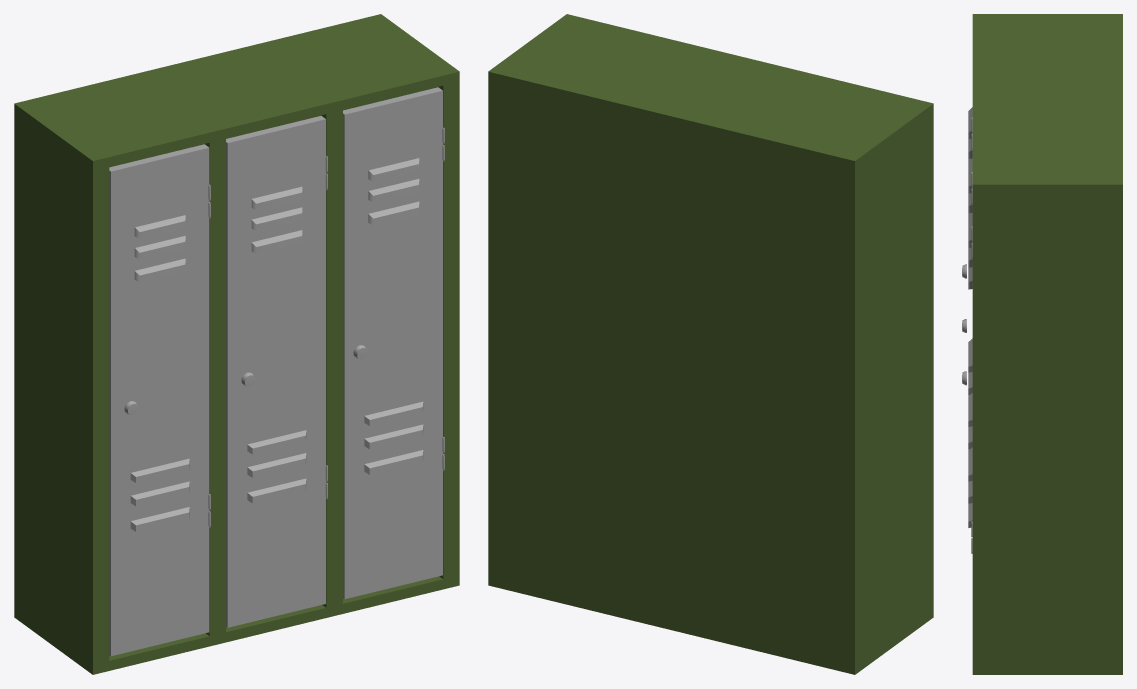
The model's file is Locker big.fbx.
3 renders of one model, left to right at view 1: azimuth 30°, elevation 25°; view 2: azimuth 150°, elevation 25°; view 3: azimuth 270°, elevation 25°, orthographic. The views are drawn at different scales.
Parts seen in each view (by area): view 1: polySurface23; view 2: polySurface23; view 3: polySurface23.
Part boxes in pixels (x1,y1,x2,y2): polySurface23: (14,14,459,674); polySurface23: (488,14,933,674); polySurface23: (962,14,1122,674).
Size of the model in its own units: 13.45 by 18 by 5.36.
